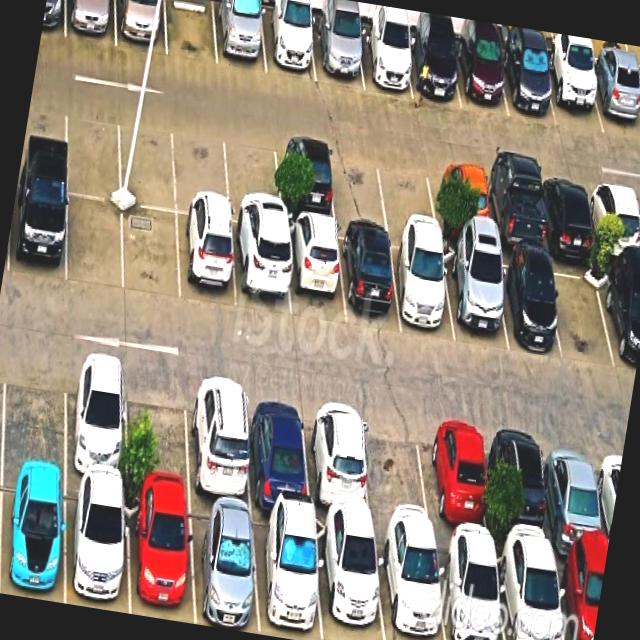empty: (360, 404, 434, 535), (127, 364, 191, 497), (3, 346, 65, 474), (549, 255, 617, 365), (224, 127, 282, 230), (118, 110, 176, 212), (123, 205, 180, 303), (175, 120, 230, 220), (66, 101, 120, 201), (67, 195, 123, 291), (378, 150, 438, 232), (330, 143, 389, 226), (165, 0, 217, 65)
occupied: (189, 499, 260, 634), (126, 489, 195, 624), (252, 510, 322, 640), (423, 412, 490, 545), (304, 394, 372, 524), (0, 470, 66, 603), (66, 478, 130, 614), (315, 519, 385, 640), (543, 429, 608, 559), (188, 375, 251, 507), (246, 384, 310, 513), (66, 353, 127, 486), (493, 421, 554, 552), (375, 531, 445, 640), (435, 537, 505, 640), (441, 244, 508, 351), (492, 251, 561, 354), (390, 234, 455, 342), (495, 545, 564, 640), (338, 226, 401, 330), (285, 218, 345, 325), (9, 181, 67, 283), (177, 214, 237, 309), (482, 166, 546, 253), (231, 224, 290, 318), (431, 158, 492, 243), (275, 136, 336, 221), (543, 53, 604, 134), (539, 173, 597, 255), (500, 43, 556, 125), (554, 552, 606, 640), (454, 37, 509, 116), (586, 59, 640, 139), (404, 33, 461, 108), (588, 179, 640, 261), (602, 262, 640, 374), (261, 6, 316, 82), (356, 26, 412, 98), (214, 0, 266, 74), (312, 18, 364, 88), (115, 0, 167, 55), (66, 0, 116, 46)
